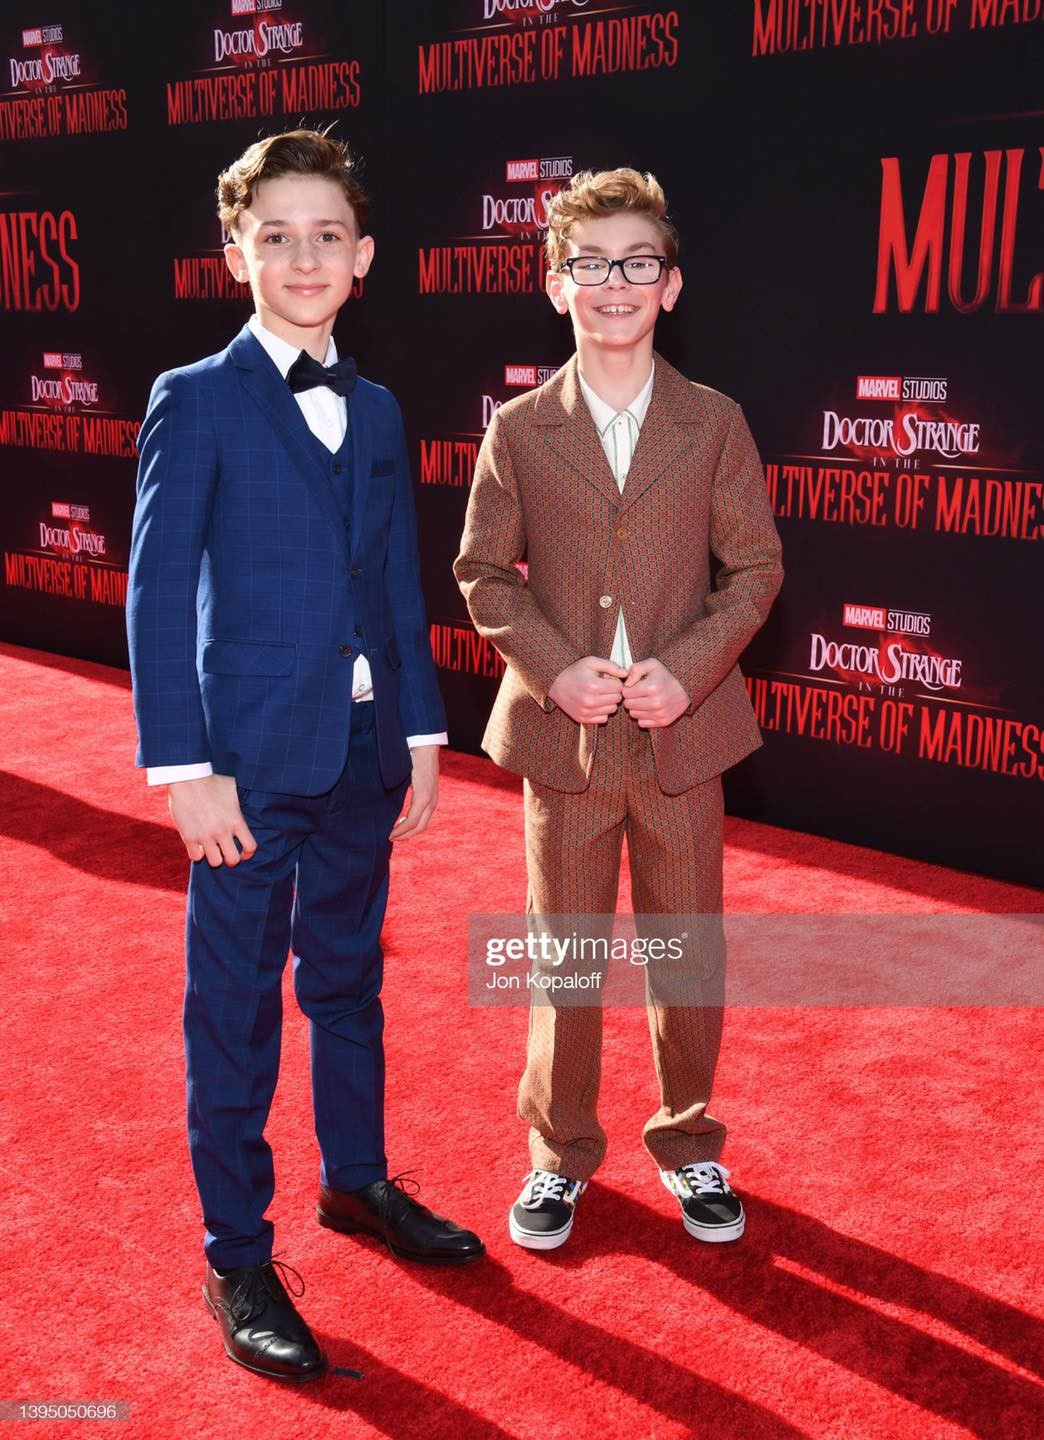person: (126, 130, 512, 1363), (481, 176, 788, 1247)
